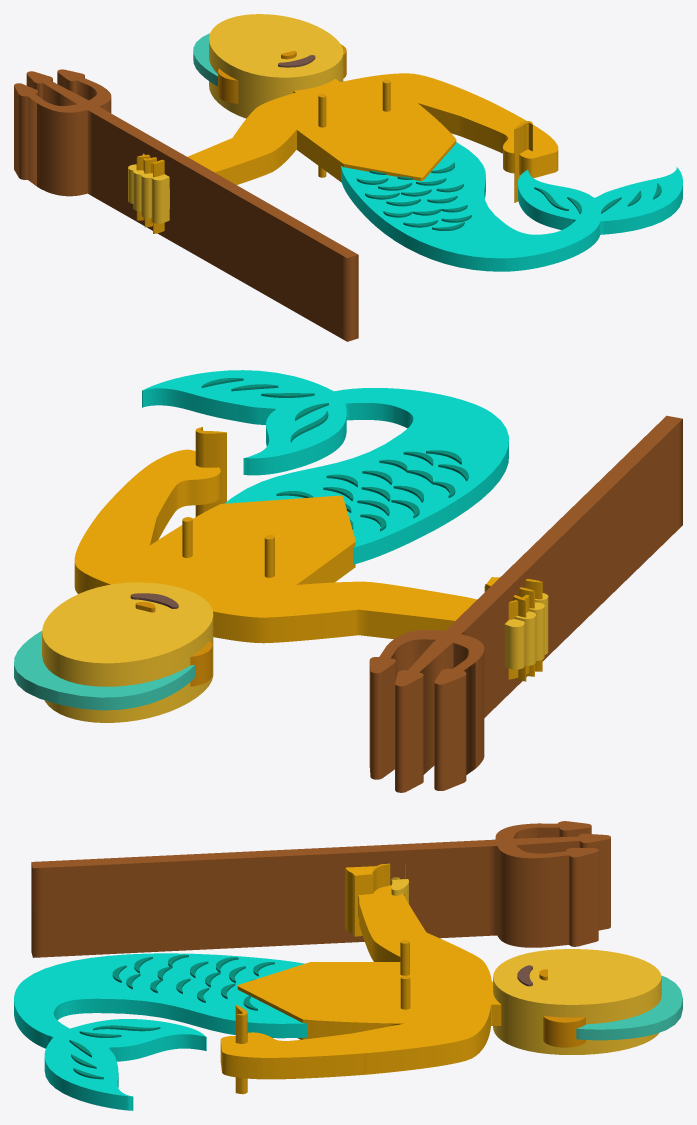
File: emoji_u1f9dc_200d_2642.glb
3 renders of one model, top to bottom at view 1: azimuth 30°, elevation 25°; view 2: azimuth 150°, elevation 25°; view 3: azimuth 270°, elevation 25°, orthographic. The views are drawn at different scales.
Visible parts, largest first — view 1: emoji_u1f9dc_200d_2642; view 2: emoji_u1f9dc_200d_2642; view 3: emoji_u1f9dc_200d_2642.
Boxes of the visible parts, <box> form: emoji_u1f9dc_200d_2642: <box>14,14,682,341</box>; emoji_u1f9dc_200d_2642: <box>14,370,682,792</box>; emoji_u1f9dc_200d_2642: <box>14,821,682,1110</box>.
Bounding box in the file's own units: 0.0285 × 0.005 × 0.0339.
